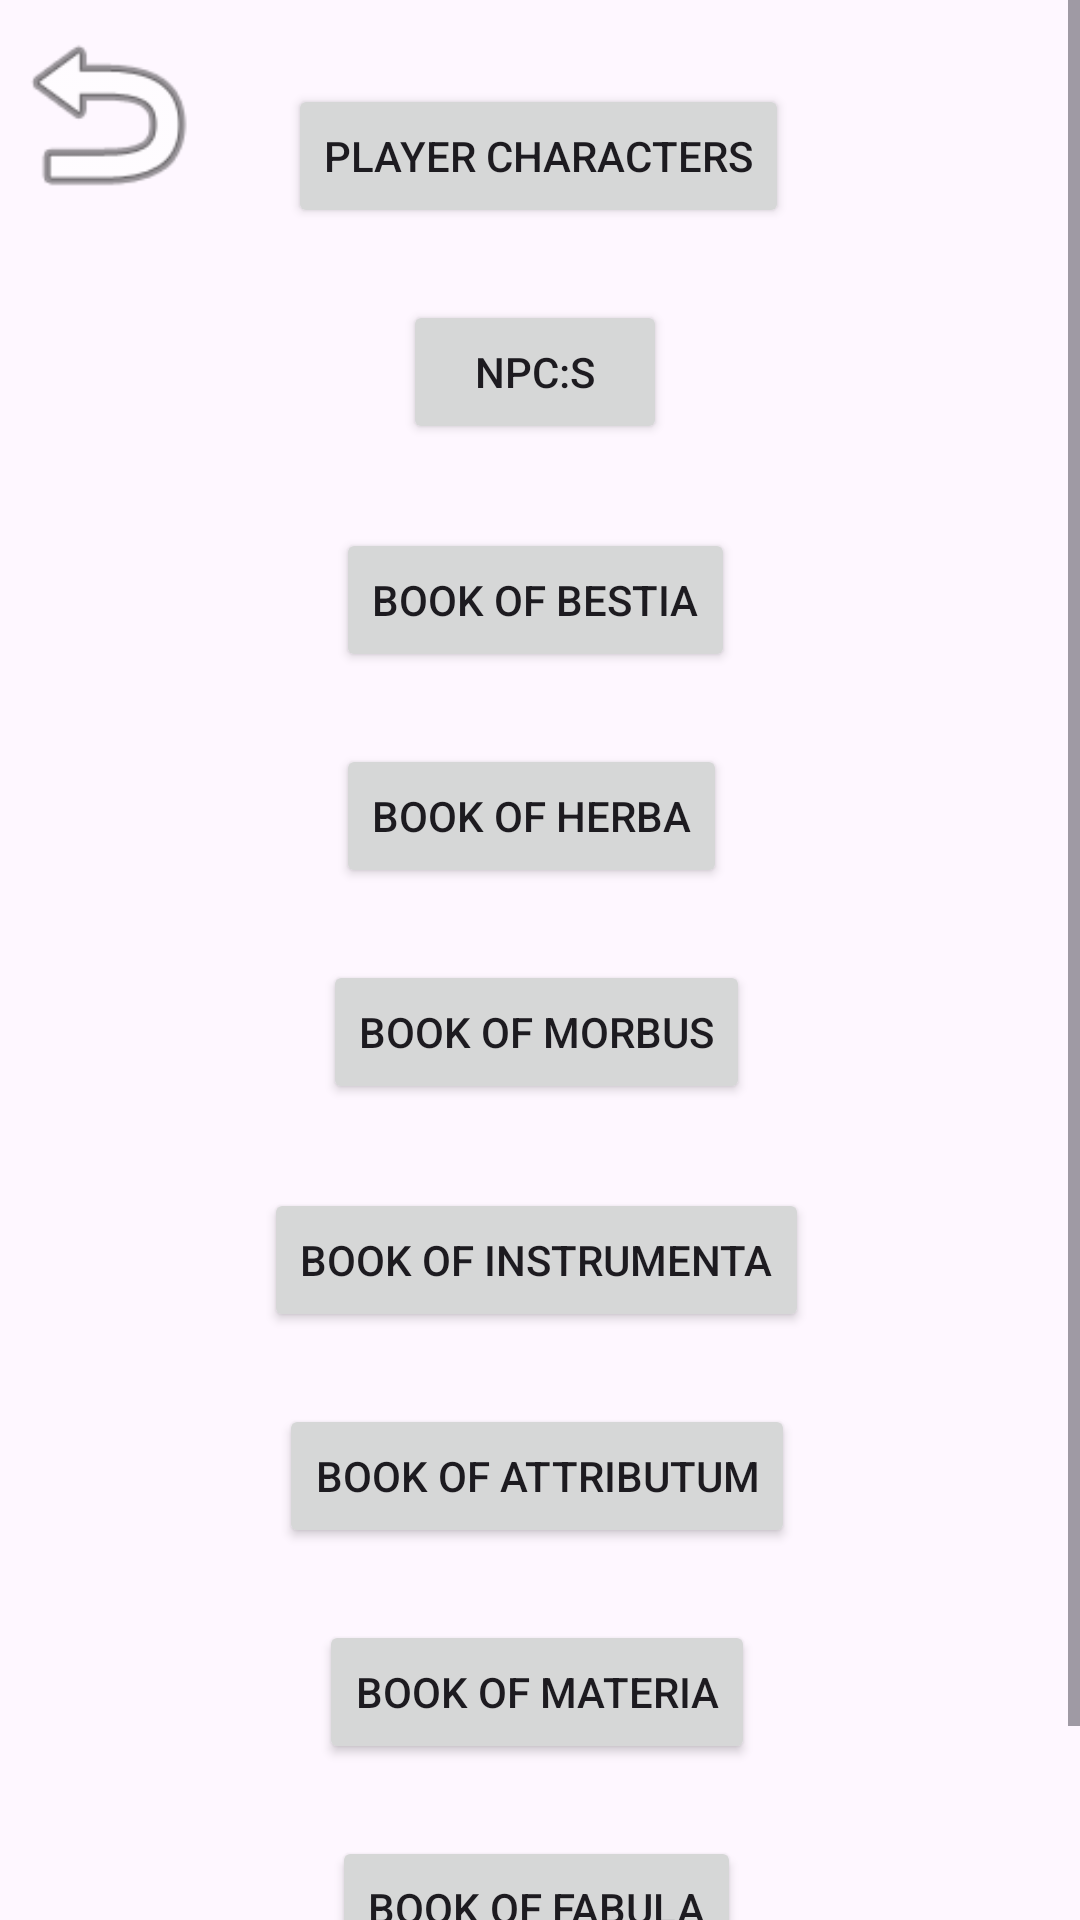

Icons on this 1080 x 1920 Android screen, each with the point to tap as (x=x, y=y):
revert: (x=109, y=115)
